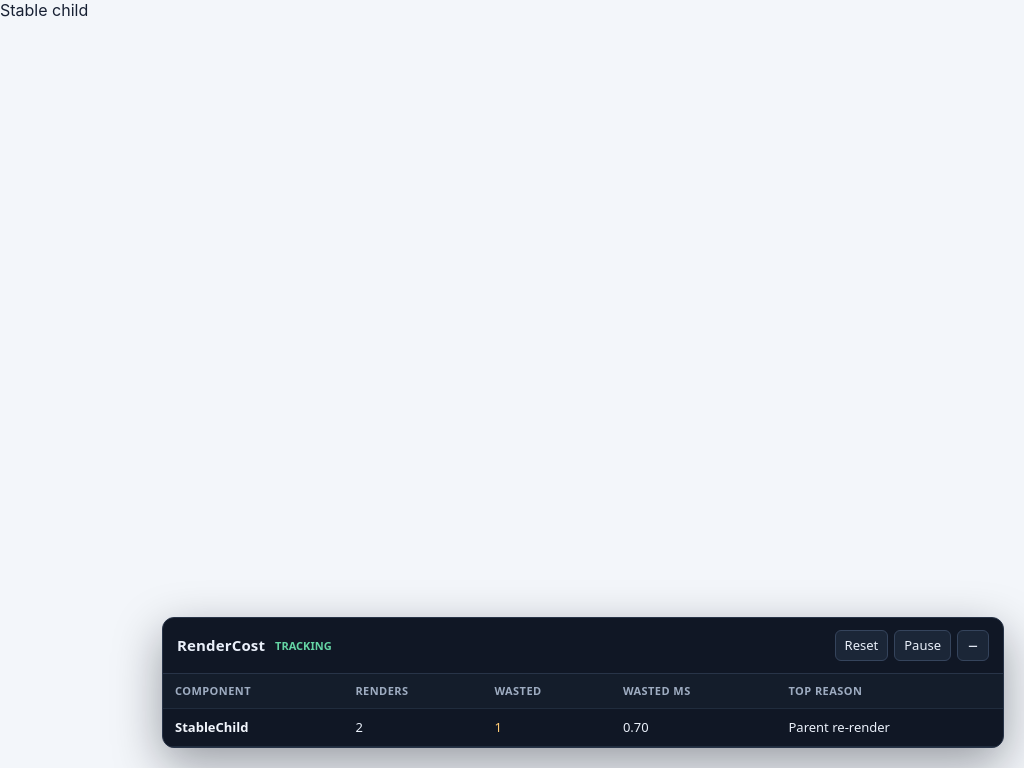
Test: RenderCostPanel › suggests React.memo for unchanged props on a parent re-render
Step 1. Click the row "StableChild 2 1 0.70 Parent re-render" → (583, 728), box left=163, top=709, right=1003, bottom=746
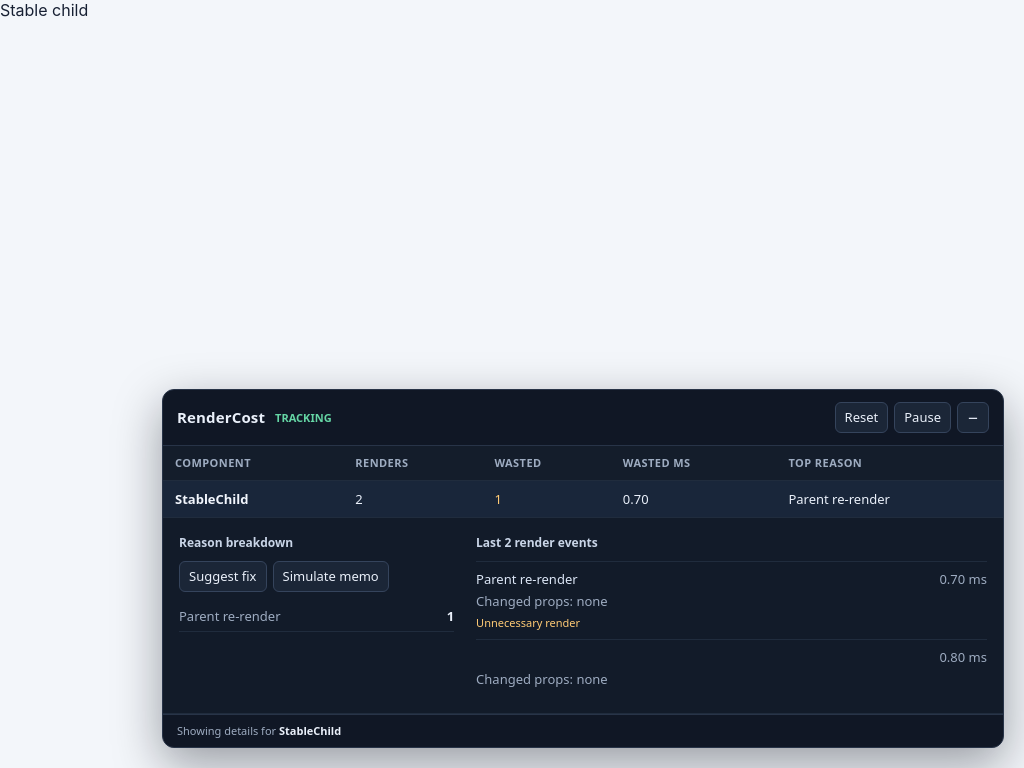
Step 2. Click the button "Suggest fix" → (223, 576), box left=179, top=561, right=266, bottom=592
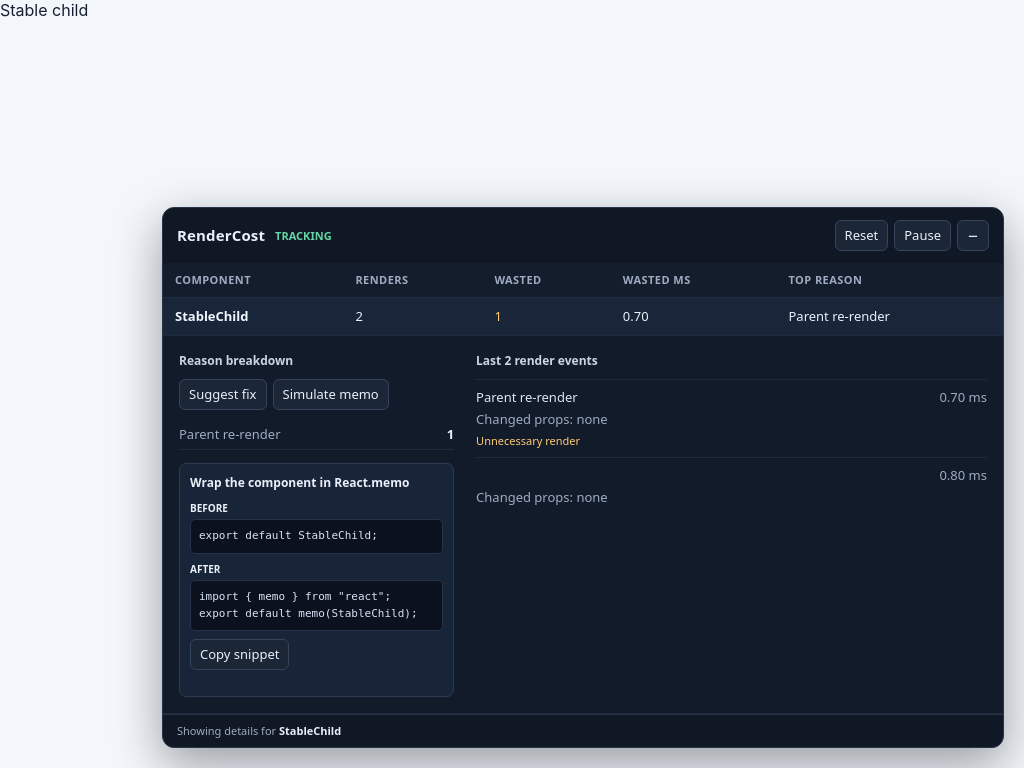
Check: the element named "Suggested fix" shows "React.memo", box left=190, top=474, right=409, bottom=491
